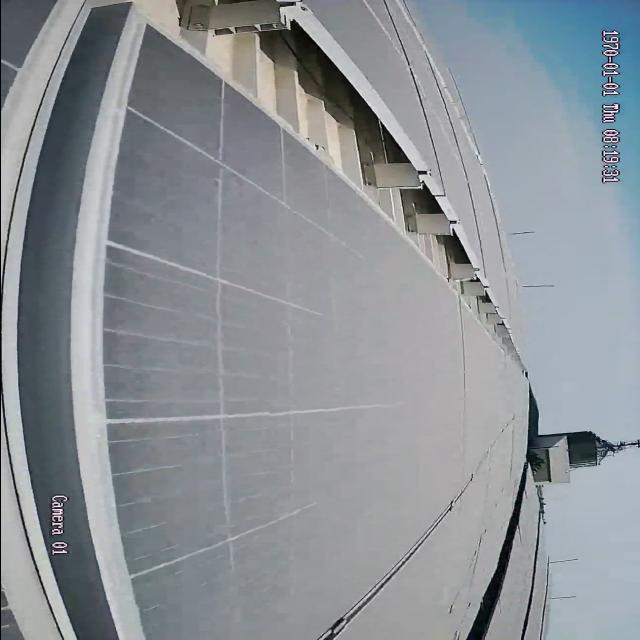interior panel: (0, 6, 152, 636)
outher panel: (141, 0, 511, 354)
